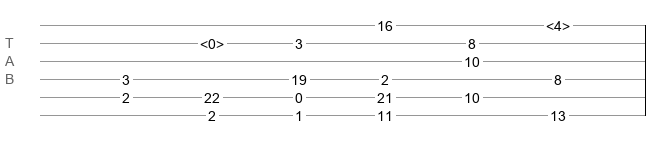0: (295, 90, 303, 100)
1: (295, 108, 303, 118)
10: (464, 90, 480, 100), (464, 54, 480, 64)
11: (377, 108, 393, 118)
13: (550, 108, 566, 118)
16: (377, 18, 393, 28)
19: (291, 72, 307, 82)
2: (122, 90, 130, 100), (208, 108, 216, 118), (381, 72, 389, 82)
21: (377, 90, 393, 100)
22: (204, 90, 220, 100)
3: (122, 72, 130, 82), (295, 36, 303, 46)
8: (468, 36, 476, 46), (554, 72, 562, 82)
harmonic: (200, 36, 224, 46), (546, 18, 570, 28)
